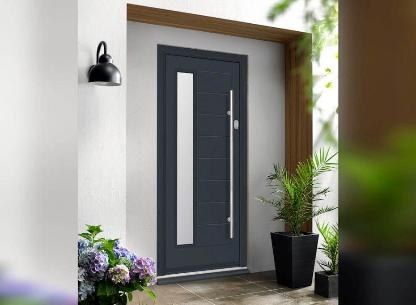door: (152, 41, 254, 286)
